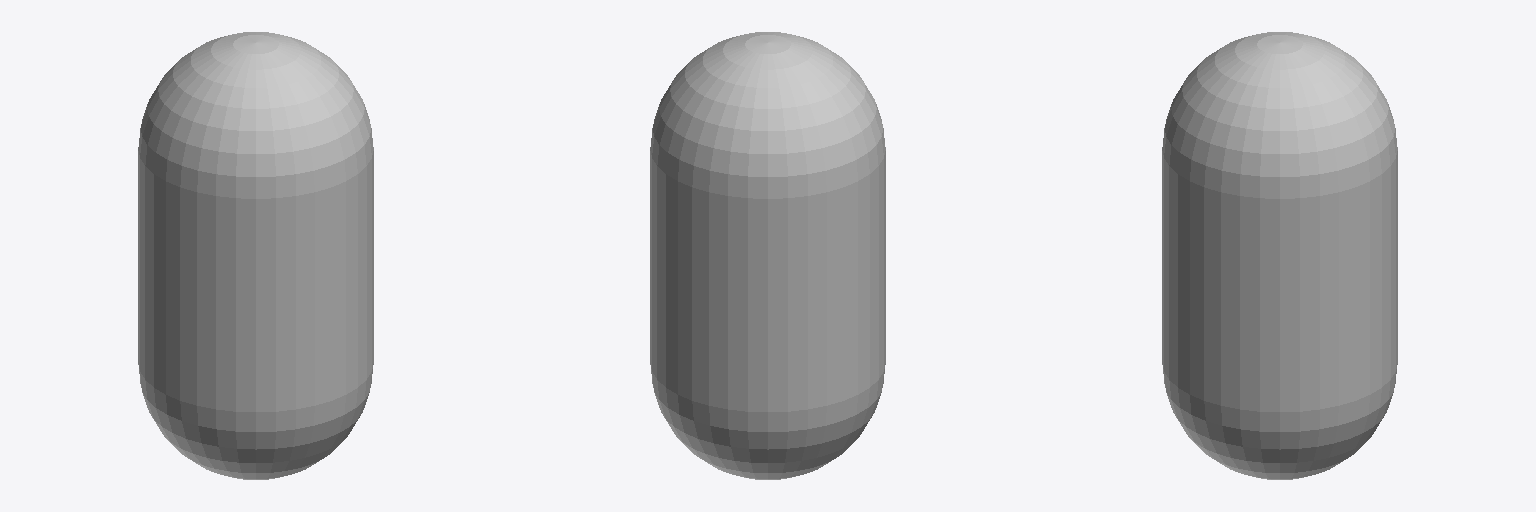
File: player.obj
3 views of the same model, side by side, from view 1: azimuth 30°, elevation 25°; view 2: azimuth 150°, elevation 25°; view 3: azimuth 270°, elevation 25° (orthographic).
Parts seen in each view (by area): view 1: Capsule; view 2: Capsule; view 3: Capsule.
Part boxes in pixels (left/top/right/bottom): Capsule: left=138, top=32, right=373, bottom=479; Capsule: left=650, top=32, right=885, bottom=479; Capsule: left=1162, top=32, right=1397, bottom=479.
Bounding box in the file's own units: 1 × 2 × 1.